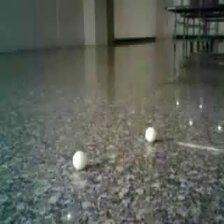w: (73, 150, 89, 170), (145, 127, 156, 142)
